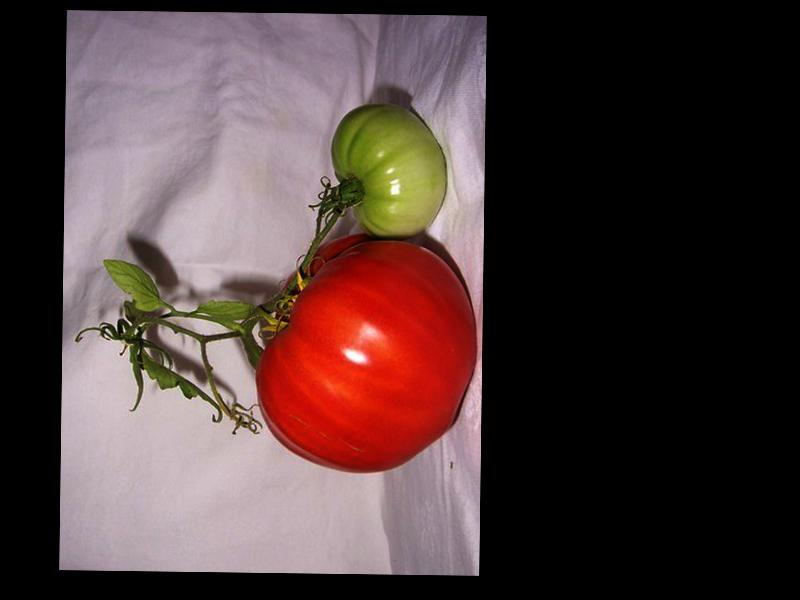Tomato: (254, 231, 476, 474)
